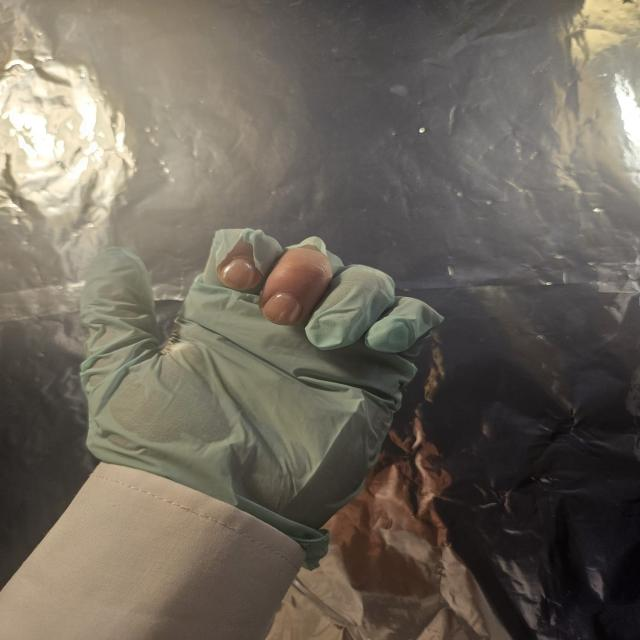gloves_damaged: (78, 225, 444, 569)
